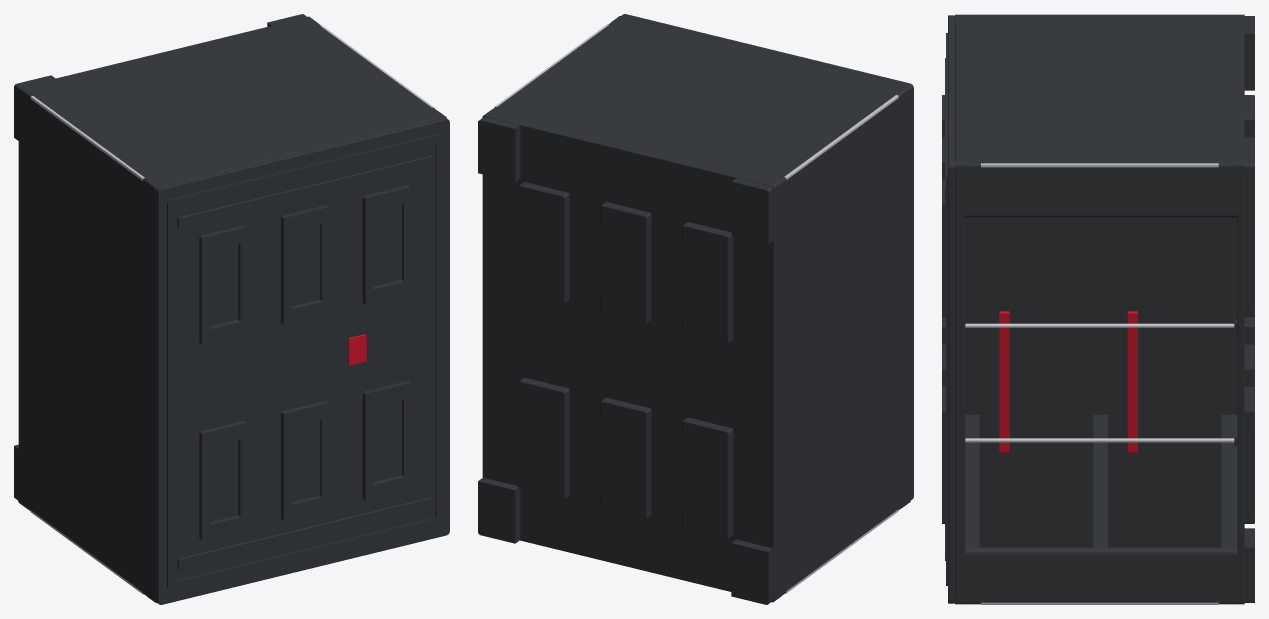
3 renders of one model, left to right at view 1: azimuth 30°, elevation 25°; view 2: azimuth 150°, elevation 25°; view 3: azimuth 270°, elevation 25°, orthographic. The views are drawn at different scales.
Parts seen in each view (by area): view 1: skrin-horni-panel, skrin-zadni-stena, skrin-bocnice-1, viko-prolis-obvod, skrin-bocnice--1, PACKOUT-horni-drazka-1-1, PACKOUT-horni-drazka-1--1, PACKOUT-horni-drazka-0--1, PACKOUT-horni-drazka--1--1, PACKOUT-horni-drazka--1-1, PACKOUT-horni-drazka-0-1, PACKOUT-lista--231.23999999999998 (+6 smaller); view 2: skrin-zadni-stena, skrin-dno, skrin-bocnice-1, skrin-bocnice--1, PACKOUT-spodni-patka--1-1, PACKOUT-spodni-patka-0--1, PACKOUT-spodni-patka-0-1, PACKOUT-spodni-patka-1--1, PACKOUT-spodni-patka-1-1, PACKOUT-spodni-patka--1--1, skrin-horni-panel, patka--1-1 (+9 smaller); view 3: skrin-bocnice-1, zasuvka-0-celo, zasuvka-1-celo, skrin-bocnice--1, skrin-zadni-stena, skrin-strop, skrin-horni-panel, skrin-dno, roh-ochrana-1-1, roh-ochrana-1--1, zasuvka-1-cerveny-uchop, zasuvka-0-cerveny-uchop (+17 smaller).
Boxes of the visible parts, left/top/right/bottom form: skrin-horni-panel: left=155, top=117, right=449, bottom=604; skrin-zadni-stena: left=18, top=81, right=179, bottom=597; skrin-bocnice-1: left=18, top=17, right=441, bottom=231; viko-prolis-obvod: left=167, top=134, right=442, bottom=591; skrin-bocnice--1: left=18, top=460, right=154, bottom=598; PACKOUT-horni-drazka-1-1: left=362, top=185, right=412, bottom=305; PACKOUT-horni-drazka-1--1: left=362, top=381, right=412, bottom=501; PACKOUT-horni-drazka-0--1: left=281, top=401, right=330, bottom=521; PACKOUT-horni-drazka--1--1: left=199, top=420, right=248, bottom=541; PACKOUT-horni-drazka--1-1: left=199, top=225, right=248, bottom=345; PACKOUT-horni-drazka-0-1: left=281, top=205, right=330, bottom=325; PACKOUT-lista--231.23999999999998: left=177, top=497, right=432, bottom=569; skrin-zadni-stena: left=746, top=81, right=910, bottom=584; skrin-dno: left=482, top=114, right=776, bottom=598; skrin-bocnice-1: left=487, top=17, right=905, bottom=232; skrin-bocnice--1: left=520, top=497, right=873, bottom=595; PACKOUT-spodni-patka--1-1: left=682, top=222, right=733, bottom=343; PACKOUT-spodni-patka-0--1: left=600, top=397, right=651, bottom=519; PACKOUT-spodni-patka-0-1: left=600, top=202, right=651, bottom=323; PACKOUT-spodni-patka-1--1: left=518, top=377, right=569, bottom=499; PACKOUT-spodni-patka-1-1: left=518, top=182, right=569, bottom=303; PACKOUT-spodni-patka--1--1: left=682, top=417, right=733, bottom=539; skrin-horni-panel: left=621, top=14, right=913, bottom=499; patka--1-1: left=731, top=178, right=773, bottom=243; skrin-bocnice-1: left=955, top=16, right=1243, bottom=217; zasuvka-0-celo: left=979, top=217, right=1093, bottom=547; zasuvka-1-celo: left=1108, top=217, right=1221, bottom=547; skrin-bocnice--1: left=955, top=414, right=1243, bottom=598; skrin-zadni-stena: left=955, top=16, right=1243, bottom=414; skrin-strop: left=955, top=15, right=965, bottom=601; skrin-horni-panel: left=948, top=15, right=954, bottom=603; skrin-dno: left=1237, top=15, right=1244, bottom=600; roh-ochrana-1-1: left=955, top=160, right=1244, bottom=174; roh-ochrana-1--1: left=955, top=595, right=1244, bottom=604; zasuvka-1-cerveny-uchop: left=1127, top=311, right=1137, bottom=452; zasuvka-0-cerveny-uchop: left=999, top=311, right=1009, bottom=452.
Bounding box in the file's own units: 414 × 564 × 363.
